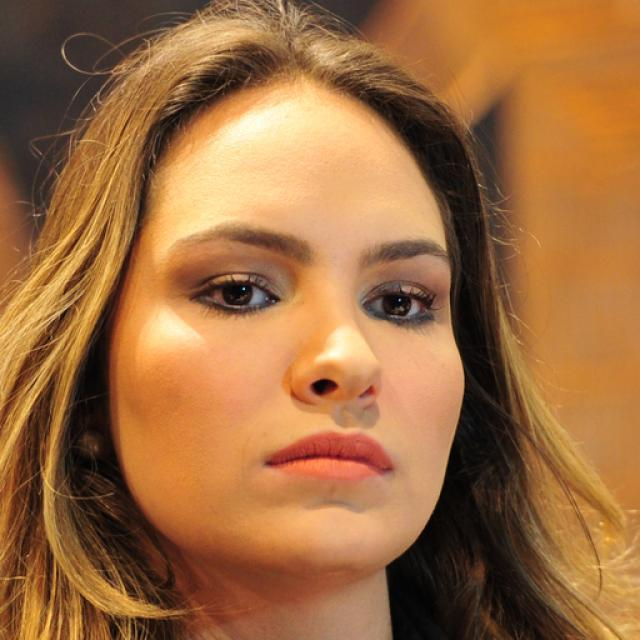neutral: (110, 70, 468, 576)
